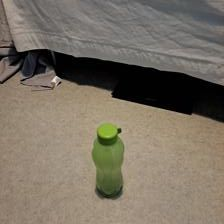bottle: (90, 120, 127, 197)
